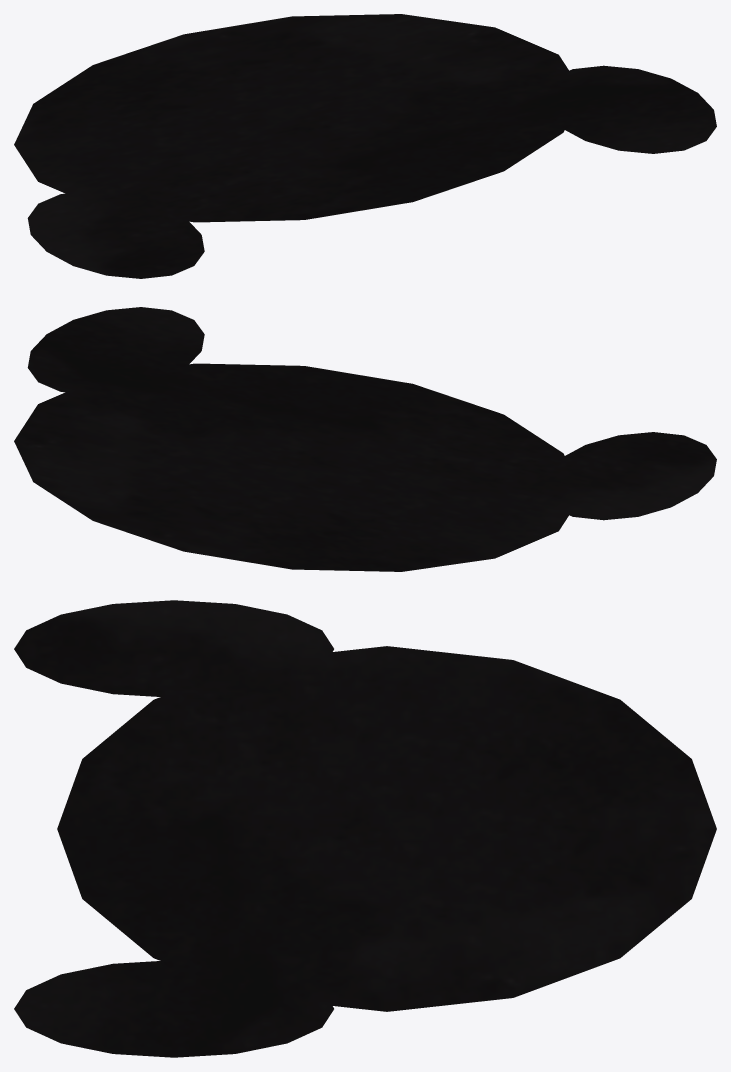
The model's file is imp_shadow_GEO_01.fbx.
3 views of the same model, one above another, from view 1: azimuth 30°, elevation 25°; view 2: azimuth 150°, elevation 25°; view 3: azimuth 270°, elevation 25° (orthographic). The views are drawn at different scales.
Parts seen in each view (by area): view 1: imp_shadow_GEO_01; view 2: imp_shadow_GEO_01; view 3: imp_shadow_GEO_01.
Boxes of the visible parts, x1,y1,x2,y2 form: imp_shadow_GEO_01: (14,14,716,278); imp_shadow_GEO_01: (14,307,716,571); imp_shadow_GEO_01: (14,600,716,1057).
Bounding box in the file's own units: 5.09 × 0 × 3.3.
1 material, 1 textured.
